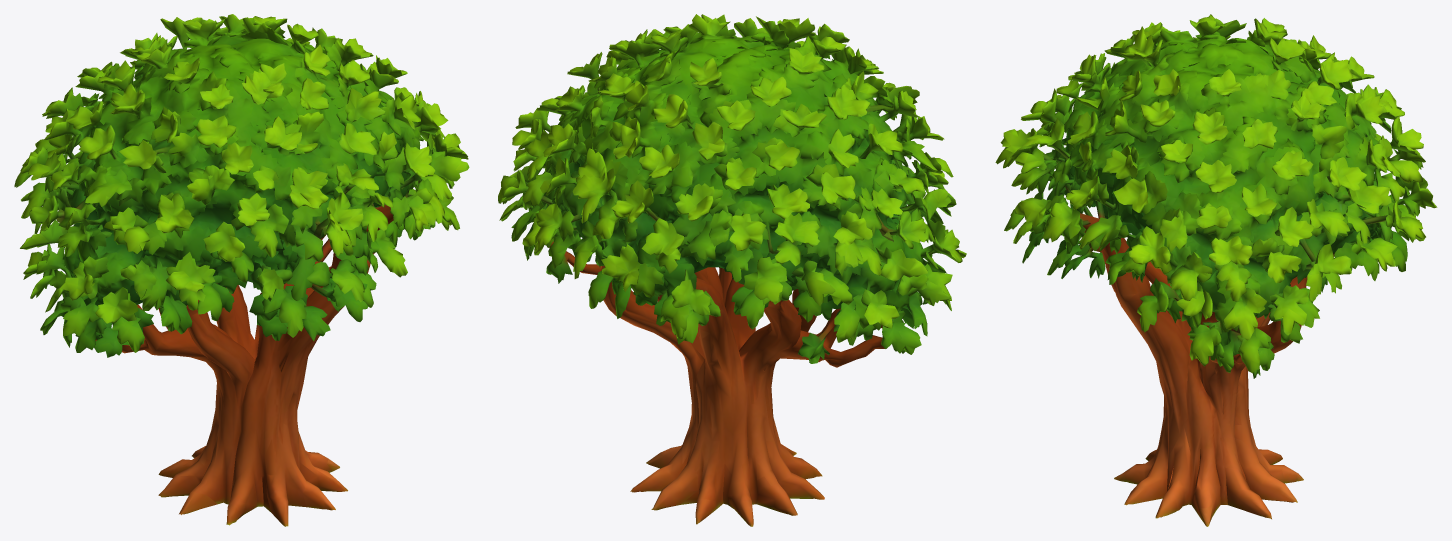
File: tree_oak.glb
3 renders of one model, left to right at view 1: azimuth 30°, elevation 25°; view 2: azimuth 150°, elevation 25°; view 3: azimuth 270°, elevation 25°, orthographic. The views are drawn at different scales.
Parts seen in each view (by area): view 1: tripo_node_4c2e7e18-eeda-4c35-a030-6ba4e3eda0c5; view 2: tripo_node_4c2e7e18-eeda-4c35-a030-6ba4e3eda0c5; view 3: tripo_node_4c2e7e18-eeda-4c35-a030-6ba4e3eda0c5.
Part boxes in pixels (bbox=[...]): tripo_node_4c2e7e18-eeda-4c35-a030-6ba4e3eda0c5: bbox=[14, 14, 469, 526]; tripo_node_4c2e7e18-eeda-4c35-a030-6ba4e3eda0c5: bbox=[498, 14, 966, 526]; tripo_node_4c2e7e18-eeda-4c35-a030-6ba4e3eda0c5: bbox=[995, 14, 1437, 526].
Bounding box in the file's own units: 4.91 × 5 × 4.53.
1 material, 1 textured.
